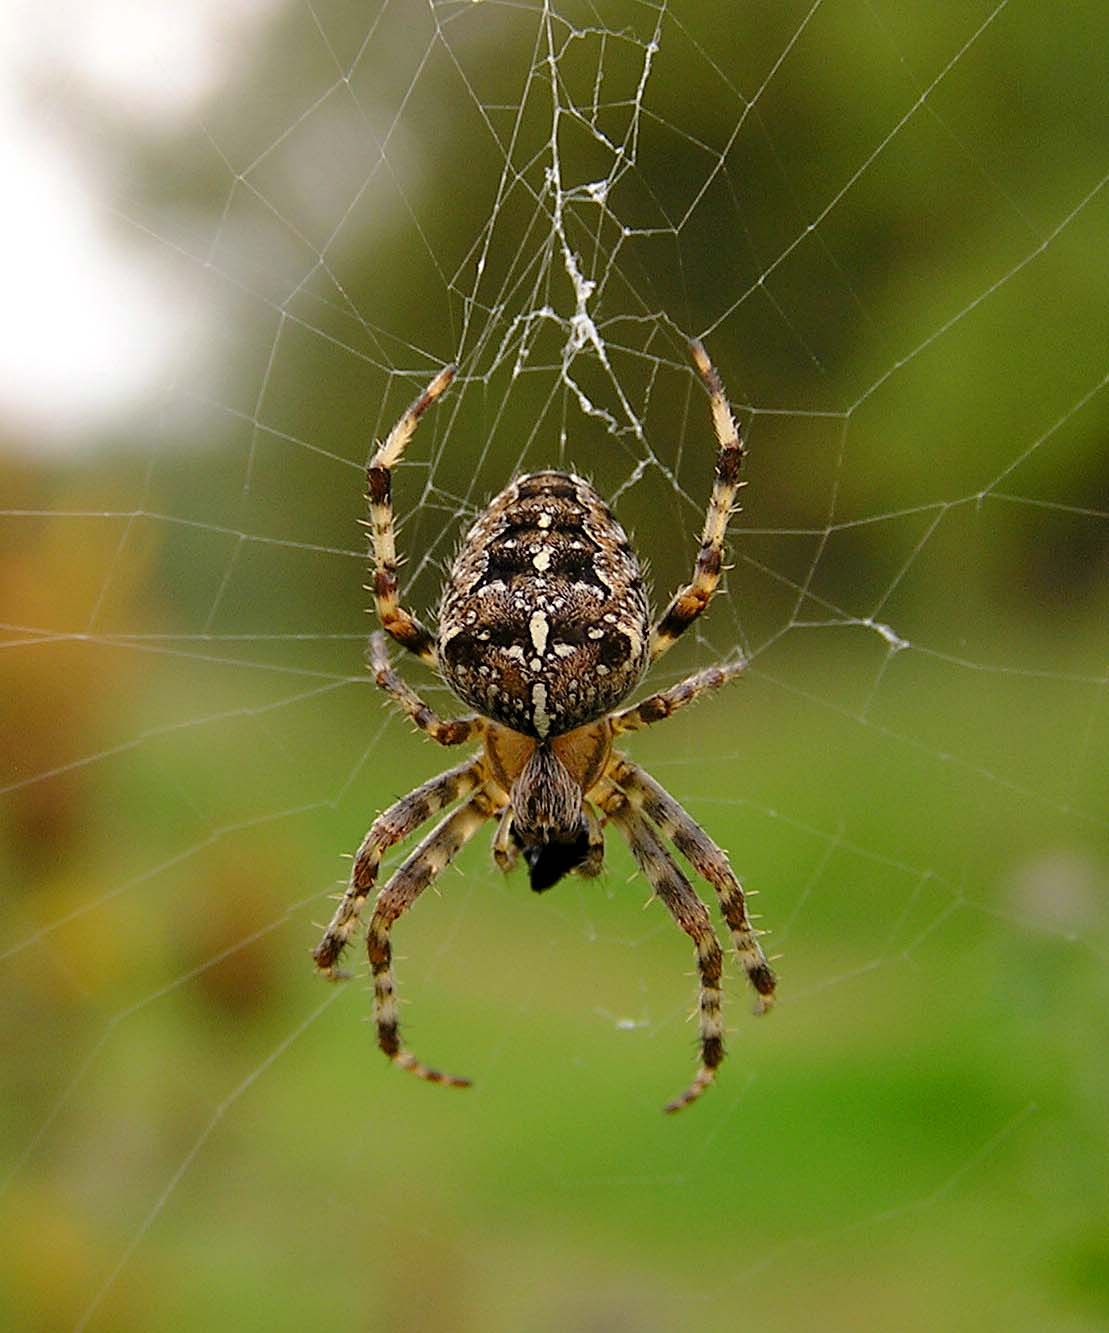spider: (273, 281, 813, 1133)
